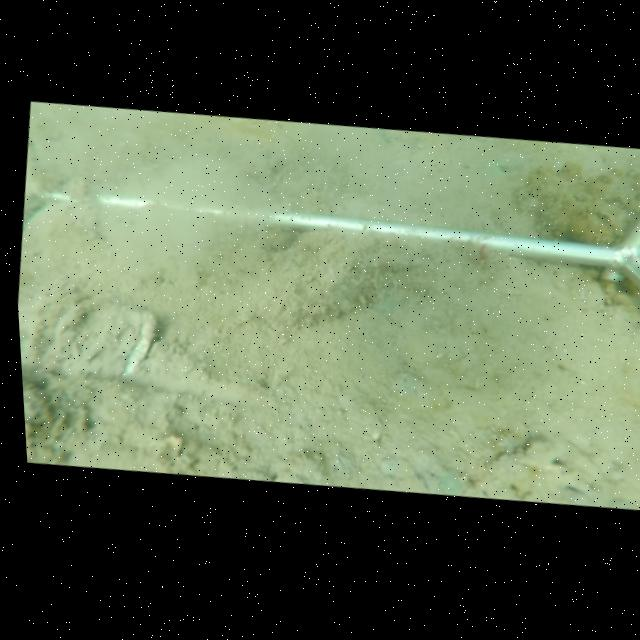Oyster-Indeterminate: (43, 290, 159, 378)
